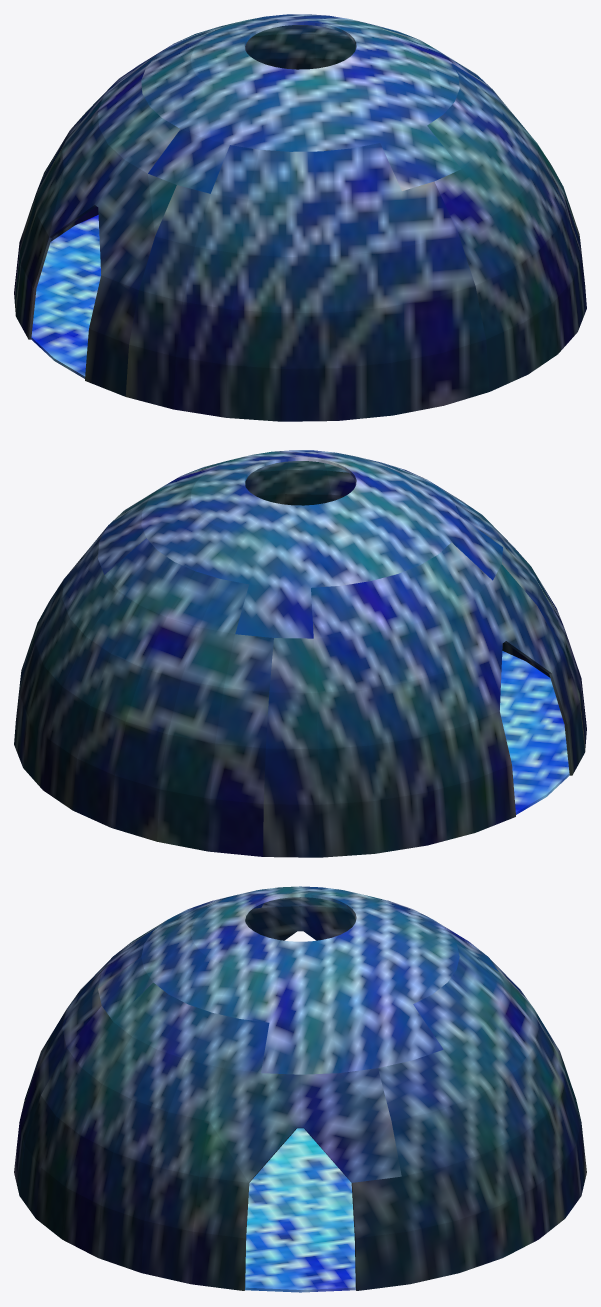
The model's file is brick2.dae.
3 views of the same model, one above another, from view 1: azimuth 30°, elevation 25°; view 2: azimuth 150°, elevation 25°; view 3: azimuth 270°, elevation 25° (orthographic).
Parts seen in each view (by area): view 1: Sphere; view 2: Sphere; view 3: Sphere.
Part boxes in pixels (x1=…): Sphere: x1=14, y1=14, x2=586, y2=421; Sphere: x1=14, y1=450, x2=586, y2=857; Sphere: x1=14, y1=886, x2=586, y2=1292.
Size of the model in its own units: 2 by 2.02 by 0.9904.
1 material, 1 textured.
